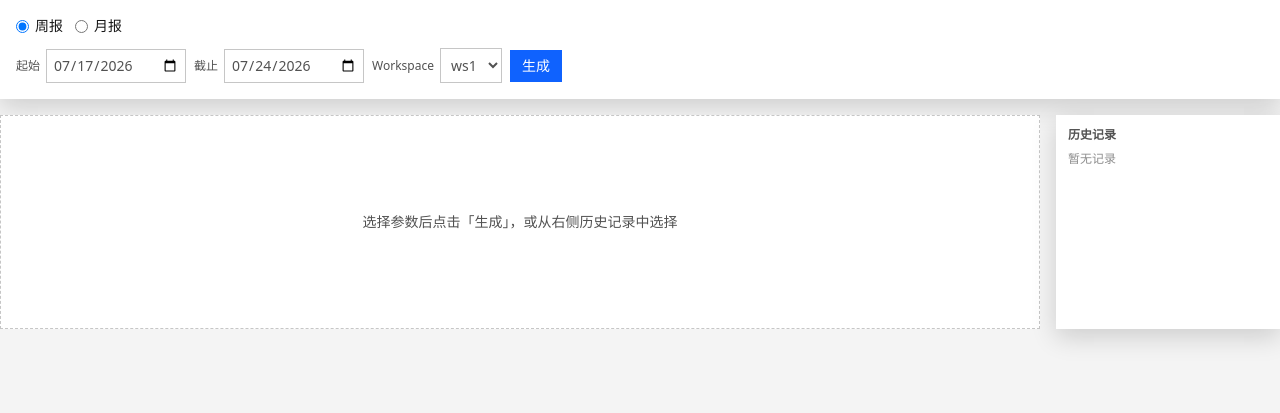
Test: ReportView › renders a weekly markdown result via MarkdownViewer body prop
Step 1. Click the button with test id "report-generate" → (536,66), box [510,50,562,82]
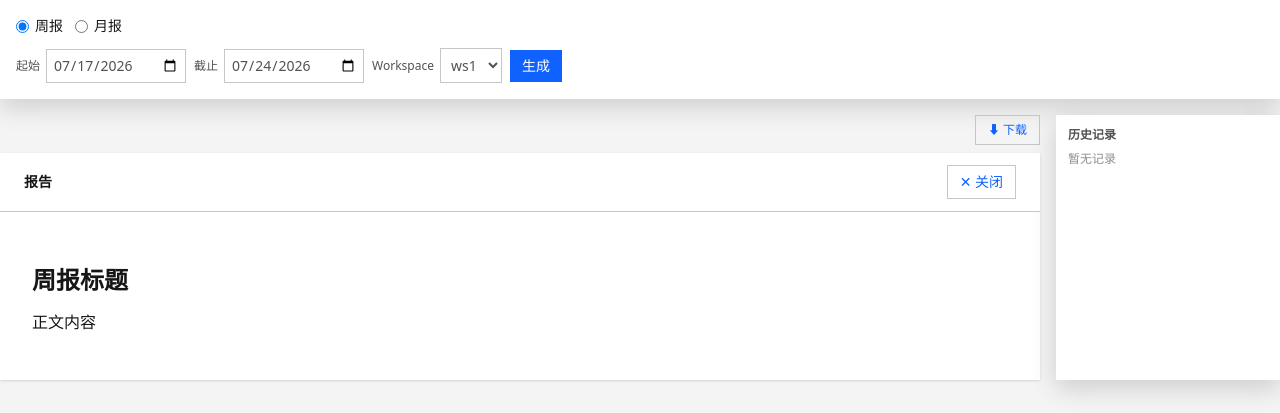
Expected: the heading "周报标题" is shown, [32,263,128,296]
Expected: the button with test id "report-download" is shown, [975,115,1040,145]
